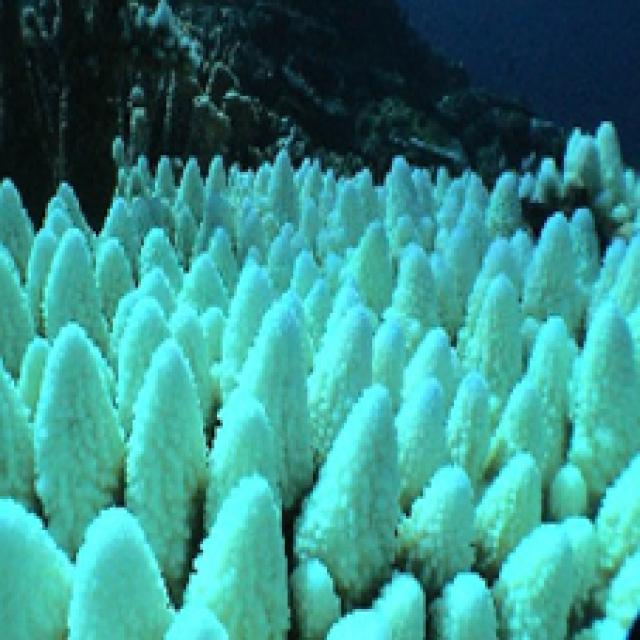Bleached: (1, 145, 638, 638)
